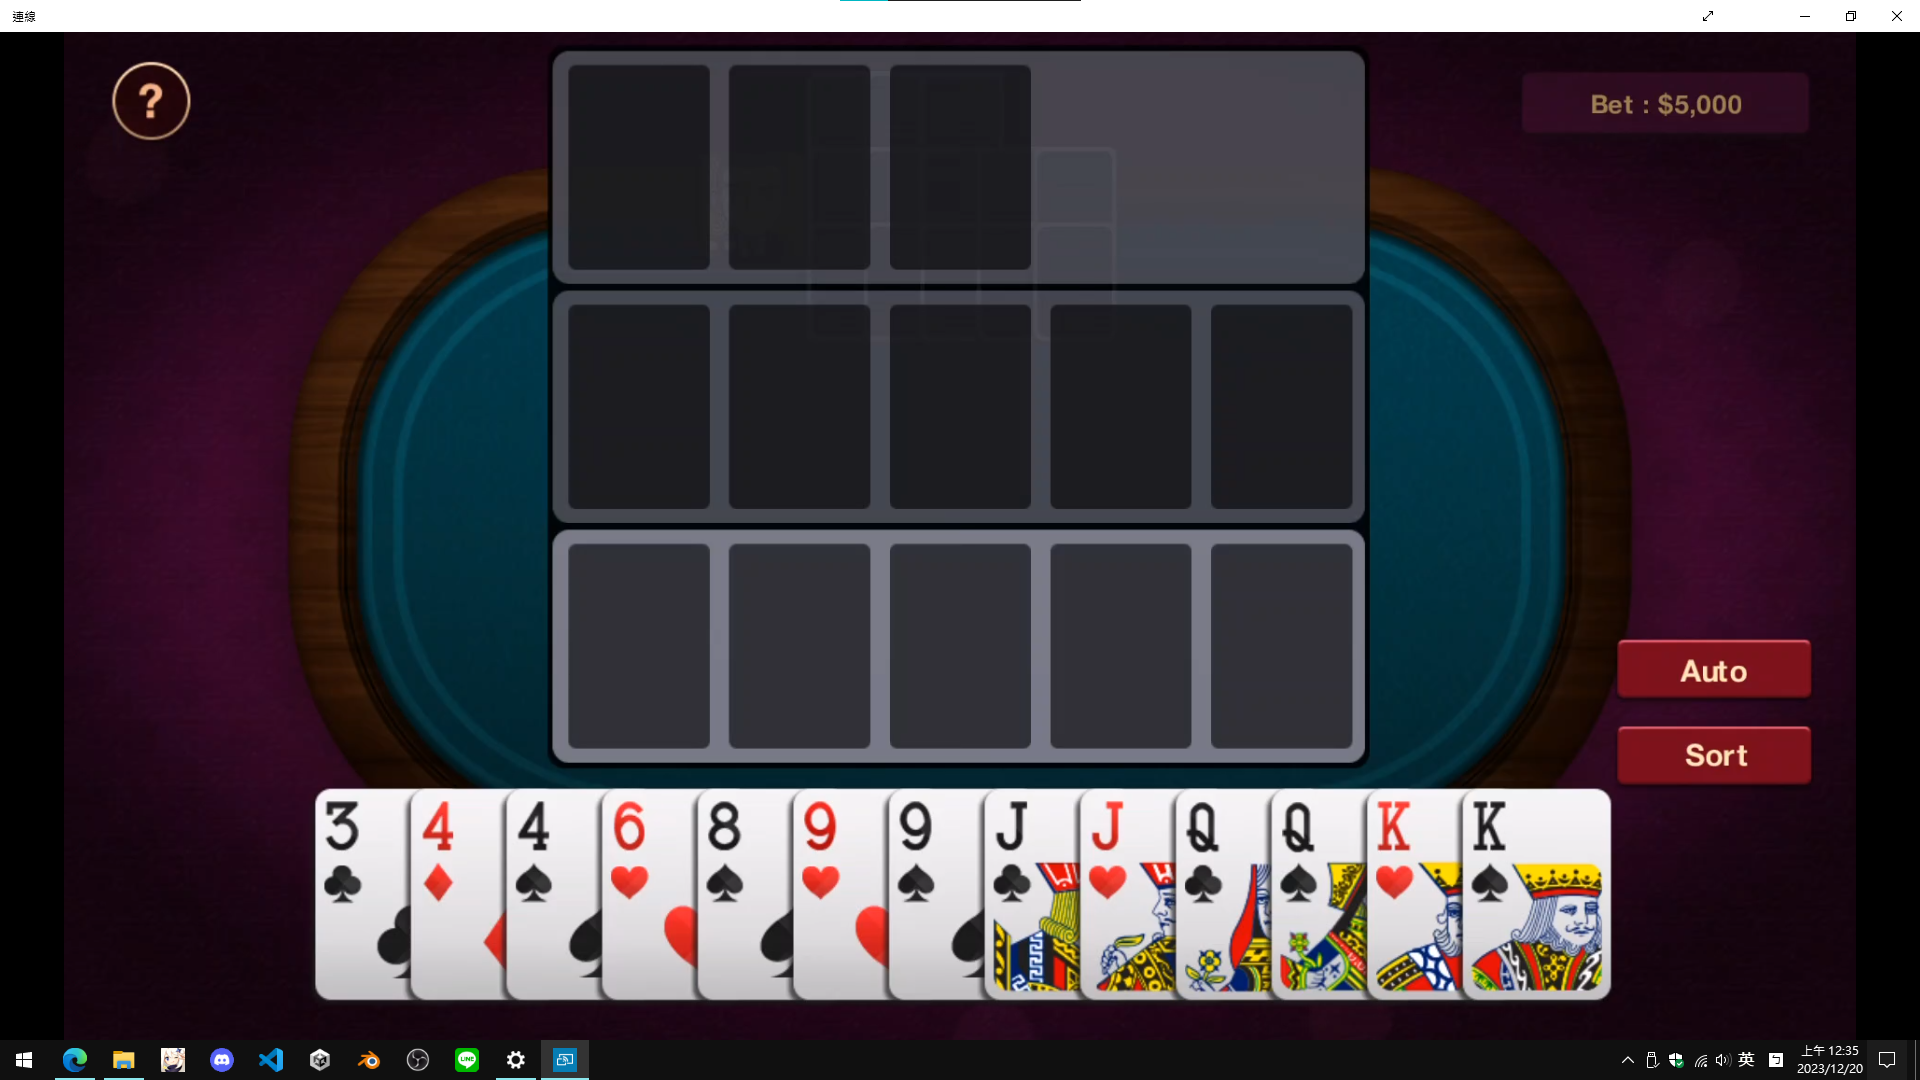3C: (319, 795, 365, 910)
4D: (418, 796, 460, 906)
4S: (513, 796, 556, 910)
6H: (609, 795, 651, 906)
8S: (704, 796, 749, 910)
9H: (798, 796, 844, 903)
9S: (895, 795, 940, 907)
JC: (989, 796, 1034, 905)
JH: (1087, 795, 1133, 902)
KH: (1373, 795, 1415, 903)
KS: (1469, 796, 1511, 910)
QC: (1183, 796, 1229, 909)
QS: (1276, 798, 1321, 909)
